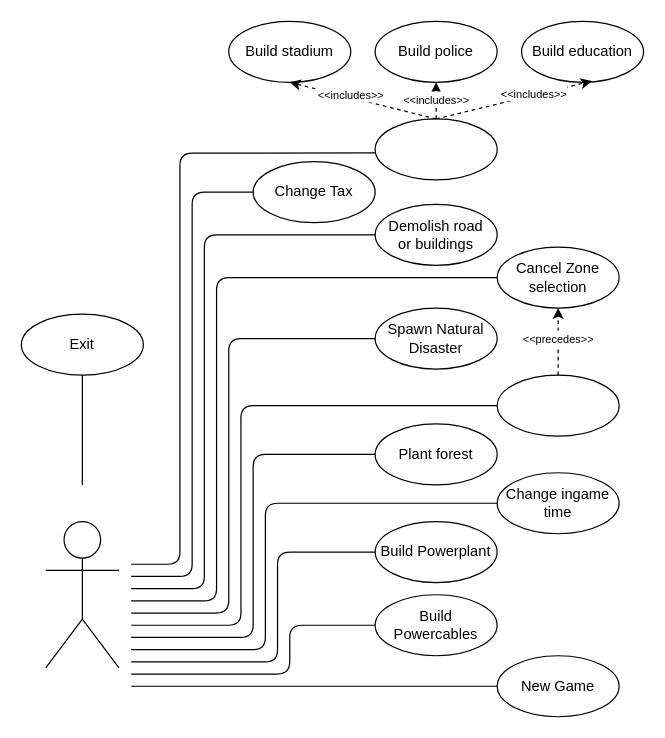
The diagram is 665 pixels wide and 738 high, and some of its shapes have lost their labels. The shapes that lost their labels are listed below. From the top down, each one's centre as x and y in pixels, then its label:
At point 435,149: "Build public bulings".
At point 557,405: "Zone selection".
At point 82,594: "User".
